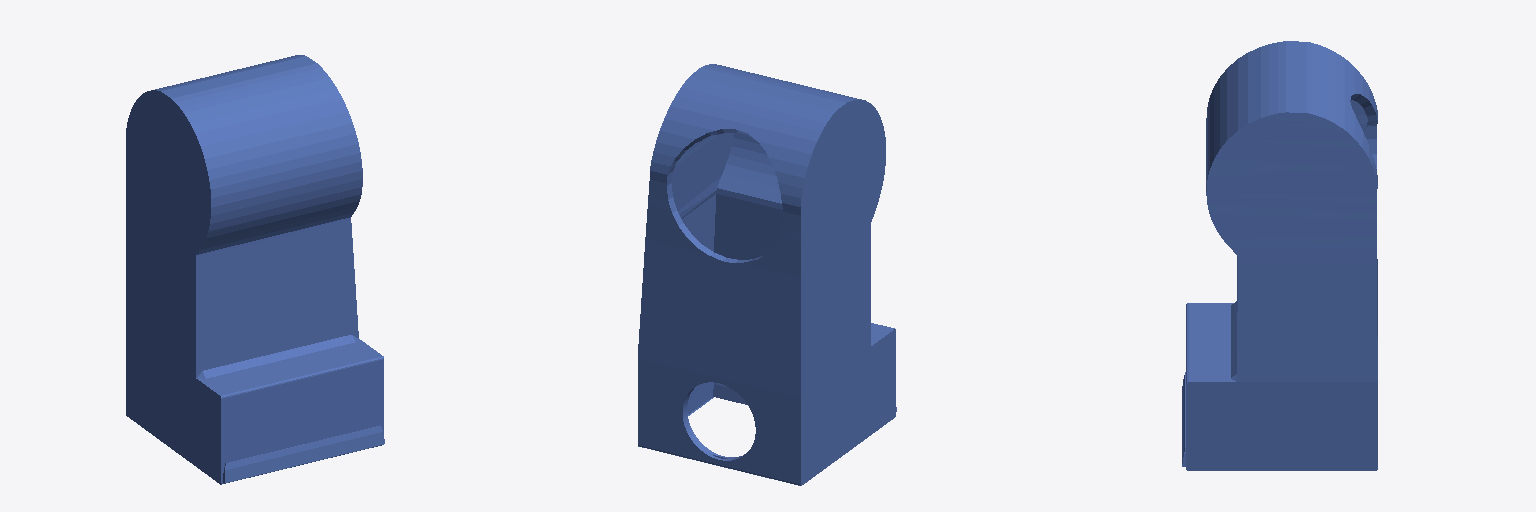
3 renders of one model, left to right at view 1: azimuth 30°, elevation 25°; view 2: azimuth 150°, elevation 25°; view 3: azimuth 270°, elevation 25°, orthographic.
Parts seen in each view (by area): view 1: Plane004; view 2: Plane004; view 3: Plane004.
Boxes of the visible parts, box(x1,y1,x2,y2) form: Plane004: box(126, 55, 384, 484); Plane004: box(638, 64, 896, 485); Plane004: box(1182, 41, 1377, 470).
Size of the model in its own units: 2.39 by 4.91 by 2.48.
Materials: 1 (1 with a texture image).